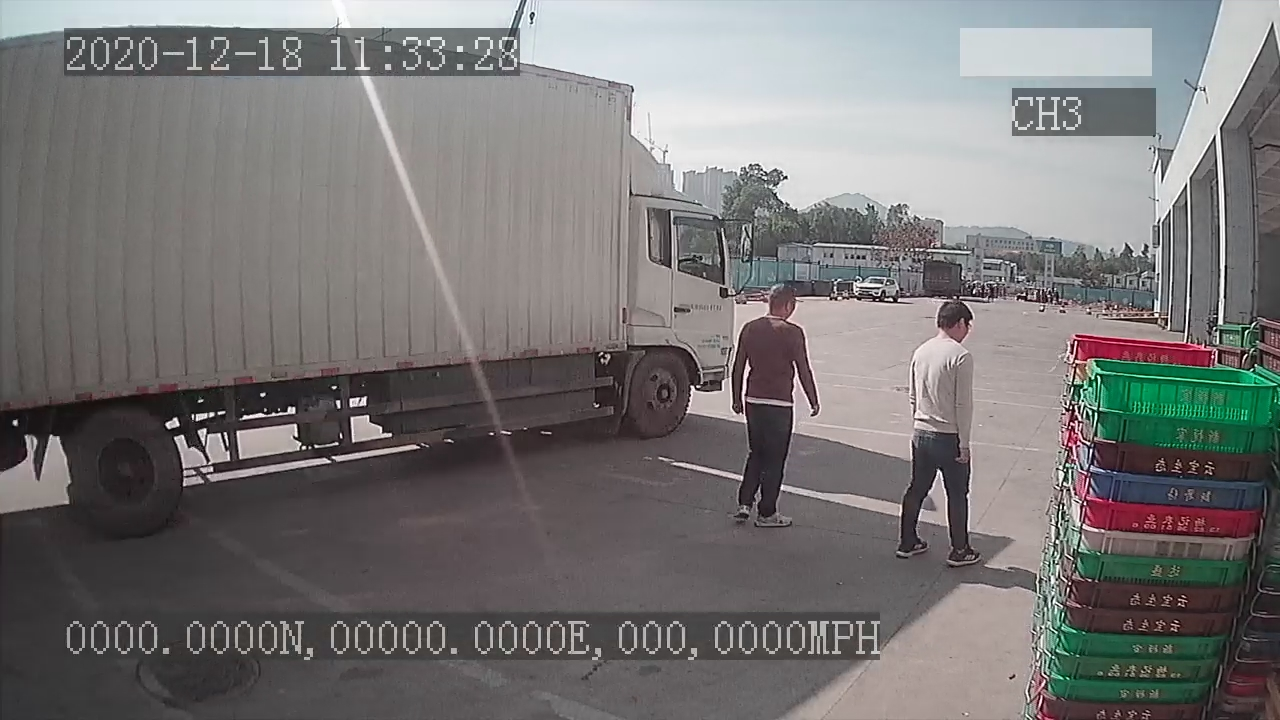person: (896, 298, 986, 568)
